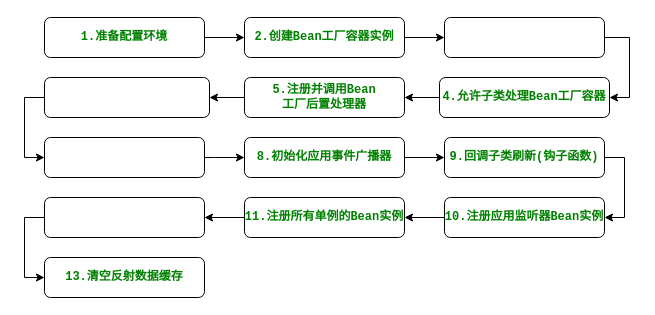
The diagram is 655 pixels wide and 315 high, and some of its shapes have lost their labels. Here are the shapes that lost their labels. From the top down, the centre of each, then its label:
At [524,37]: "3.准备Bean工厂容器".
At [127,97]: "6.注册`Bean`后置处理器".
At [124,157]: "7.初始化国际化消息处理组件".
At [124,217]: "12.完成初始化,广播应用事 件告知感兴趣的应用监听器".
